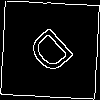D: (25, 25, 83, 84)
